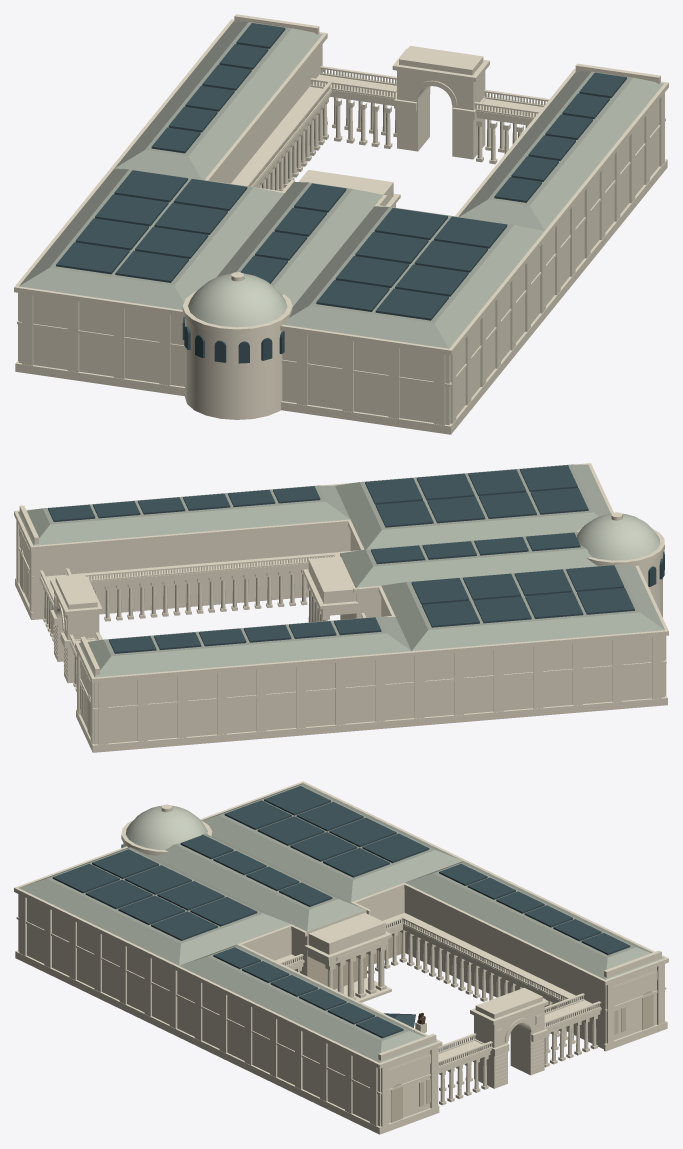
The model's file is legion-of-honor-near.glb.
3 renders of one model, top to bottom at view 1: azimuth 30°, elevation 25°; view 2: azimuth 150°, elevation 25°; view 3: azimuth 270°, elevation 25°, orthographic. The views are drawn at different scales.
Visible parts, largest first — view 1: legion-of-honor-0-stone, legion-of-honor-0-roof, legion-of-honor-0-glass, legion-of-honor-0-dome; view 2: legion-of-honor-0-stone, legion-of-honor-0-roof, legion-of-honor-0-glass, legion-of-honor-0-dome, legion-of-honor-0-shade; view 3: legion-of-honor-0-stone, legion-of-honor-0-roof, legion-of-honor-0-glass, legion-of-honor-0-dome, legion-of-honor-0-shade, legion-of-honor-0-glow.
Part boxes in pixels (x1,y1,x2,y2): legion-of-honor-0-stone: [14, 14, 668, 434]; legion-of-honor-0-roof: [19, 21, 663, 348]; legion-of-honor-0-glass: [56, 23, 626, 363]; legion-of-honor-0-dome: [188, 273, 287, 327]; legion-of-honor-0-stone: [14, 463, 668, 752]; legion-of-honor-0-roof: [18, 464, 664, 677]; legion-of-honor-0-glass: [48, 465, 664, 653]; legion-of-honor-0-dome: [577, 513, 660, 560]; legion-of-honor-0-shade: [20, 549, 90, 736]; legion-of-honor-0-stone: [14, 781, 668, 1134]; legion-of-honor-0-roof: [19, 783, 663, 1062]; legion-of-honor-0-glass: [52, 786, 630, 1038]; legion-of-honor-0-dome: [125, 805, 207, 849]; legion-of-honor-0-shade: [391, 991, 653, 1122]; legion-of-honor-0-glow: [307, 931, 401, 989].
Bounding box in the file's own units: 107 × 18 × 105.
